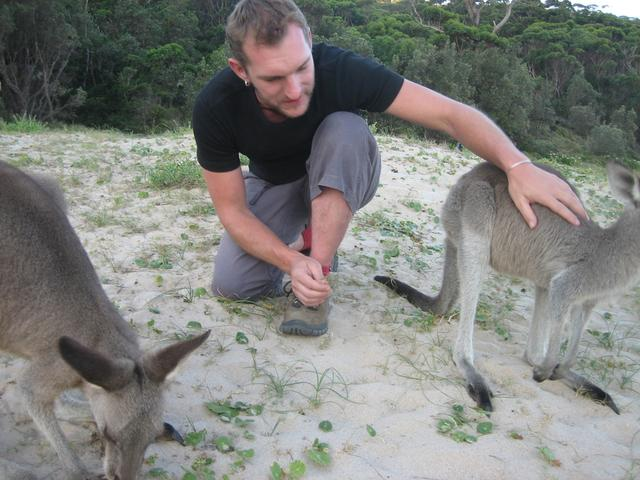kangaroo: (417, 121, 640, 421), (8, 105, 182, 480)
